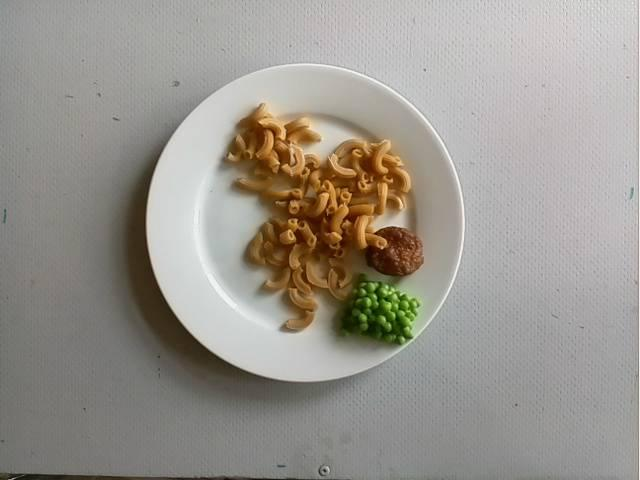Full grain pasta + peas + meatball: (210, 109, 424, 342)
